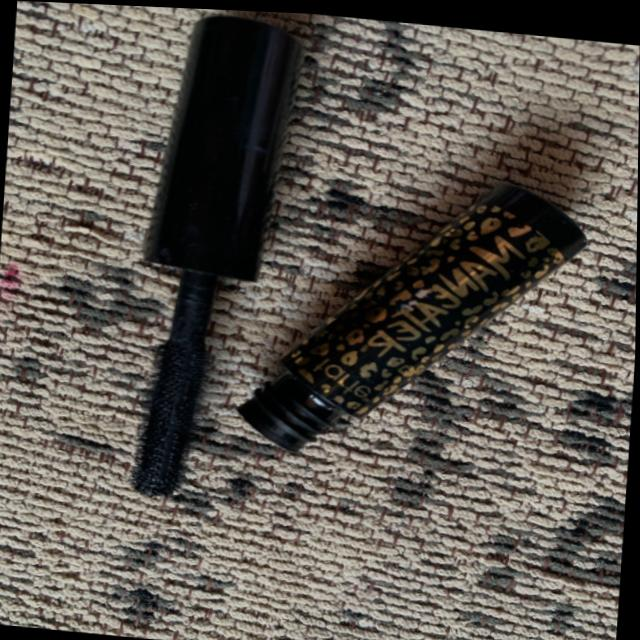mascara: (68, 3, 324, 531)
